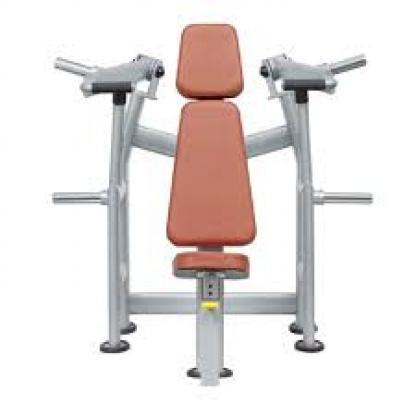shoulder press machine: (45, 14, 384, 398)
